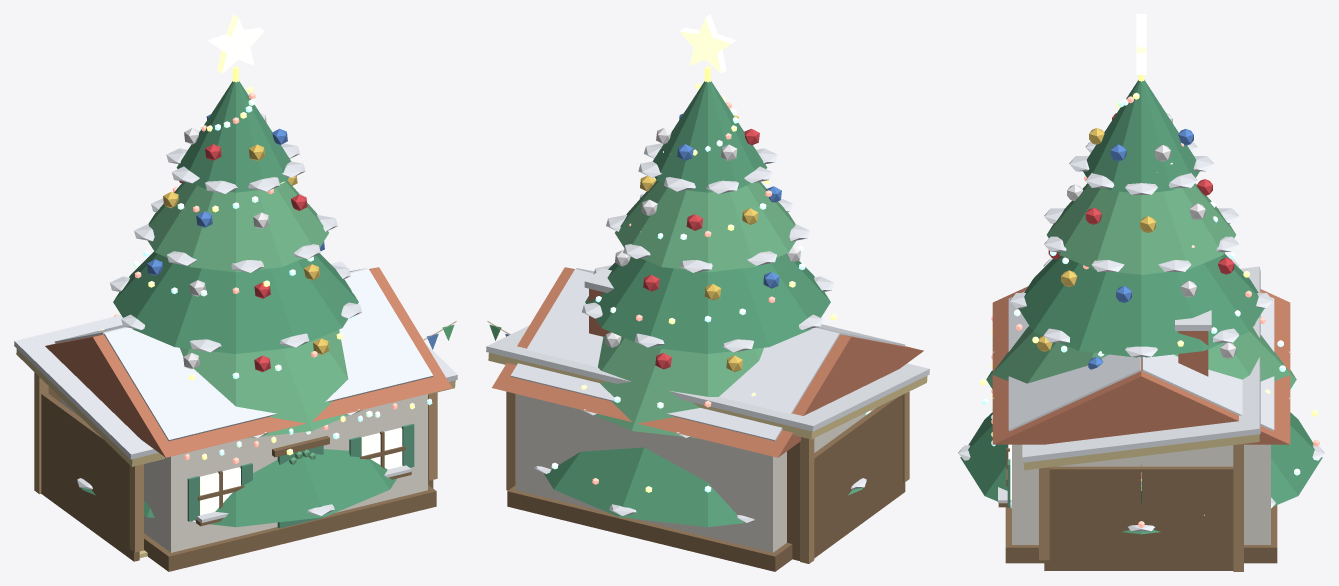
Rendered from navidad.glb.
3 renders of one model, left to right at view 1: azimuth 30°, elevation 25°; view 2: azimuth 150°, elevation 25°; view 3: azimuth 270°, elevation 25°, orthographic.
Parts seen in each view (by area): view 1: arbol_navidad, casita_nevada_a, nacimiento; view 2: arbol_navidad, casita_nevada_a, nacimiento; view 3: arbol_navidad, casita_nevada_a, nacimiento.
Part boxes in pixels (x1,y1,x2,y2): arbol_navidad: (77, 14, 396, 527); casita_nevada_a: (45, 267, 451, 571); nacimiento: (14, 261, 457, 561); arbol_navidad: (534, 14, 871, 527); casita_nevada_a: (492, 267, 923, 571); nacimiento: (486, 325, 929, 563); arbol_navidad: (958, 14, 1324, 534); casita_nevada_a: (991, 286, 1290, 563); nacimiento: (1022, 266, 1260, 571).
Size of the model in its own units: 10.45 by 12.35 by 8.49.
